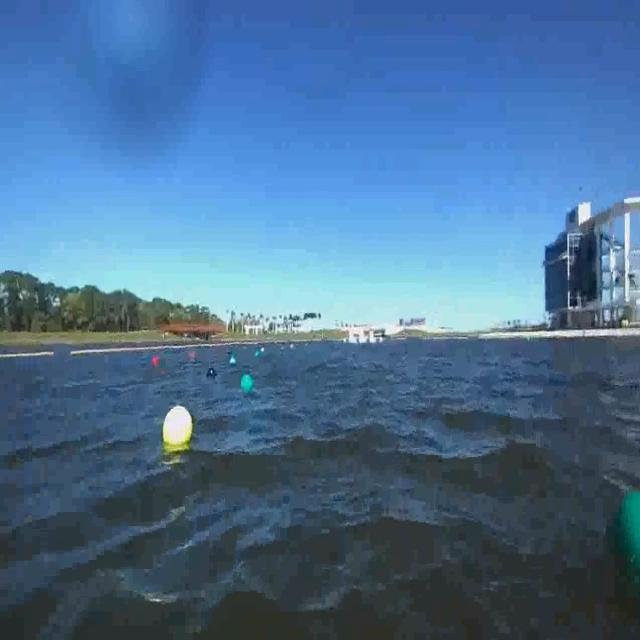black-buoy: (206, 365, 216, 377)
green-buoy: (616, 486, 640, 570), (242, 374, 254, 394)
yellow-buoy: (163, 406, 195, 447)
